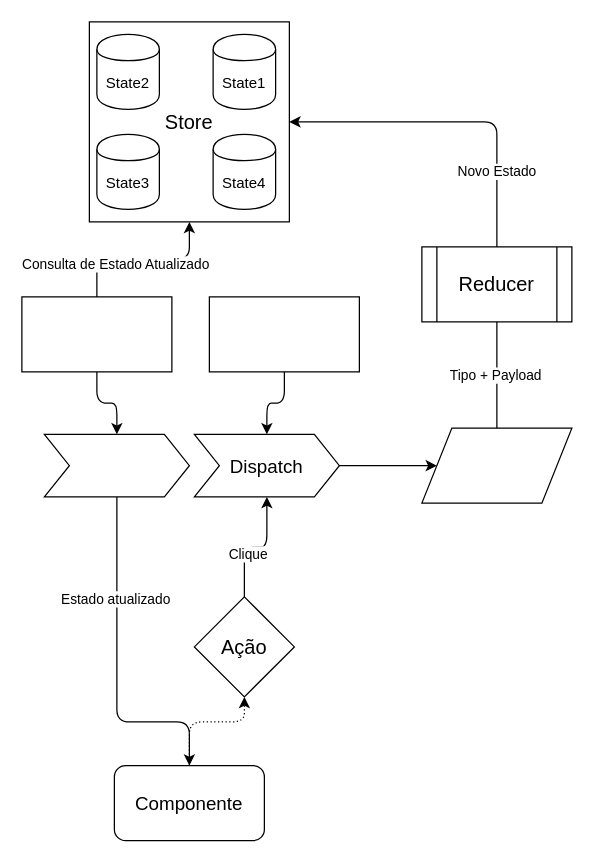
Some shapes in this 594 by 863 pixel diagram are drawn without their labels. The shapes that lost their labels are listed below. From the top down, each one's centre as x and y in pixels, then its label:
At [96,334]: "useSelector".
At [283,334]: "useDispatch".
At [116,465]: "Selector".
At [496,465]: "Action".
